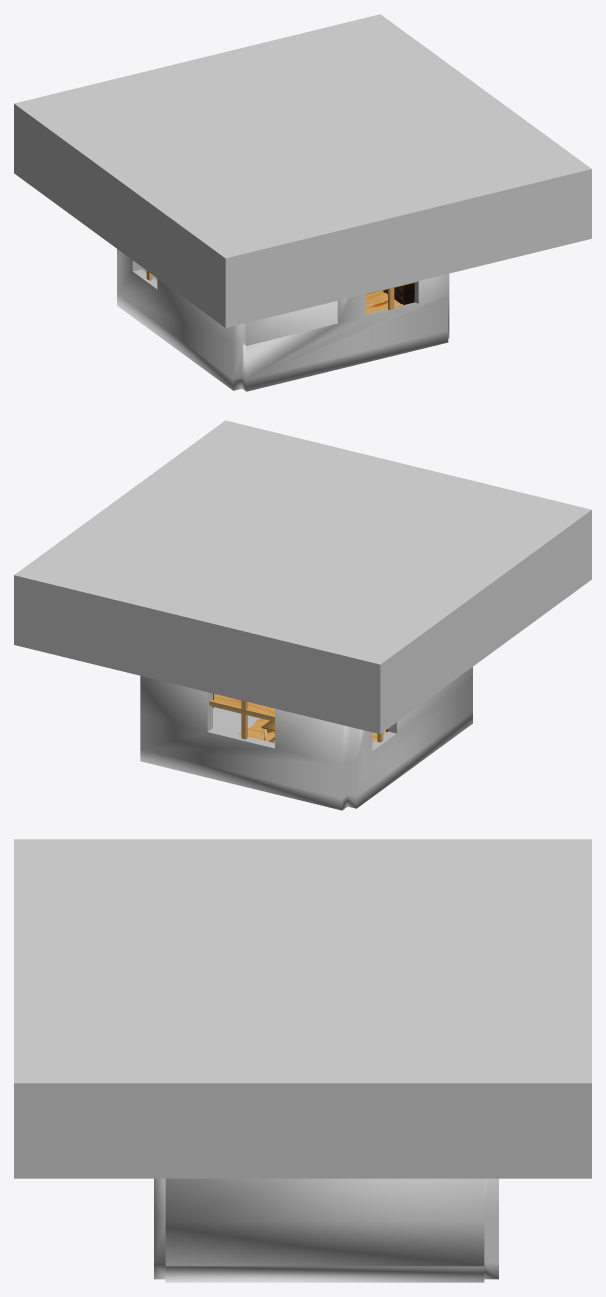
The model's file is 赤ずきん 家具の配置やサイズ感の共有(窓、ドアなし)1.fbx.
The picture shows the model from 3 angles, top to bottom: view 1: azimuth 30°, elevation 25°; view 2: azimuth 150°, elevation 25°; view 3: azimuth 270°, elevation 25°; orthographic projection. The views are drawn at different scales.
Visible parts, largest first — view 1: Cube.003, 部屋, Wall, Ground; view 2: Cube.003, 部屋, Ground, Wall, Cube.001, GroundRock; view 3: Cube.003, 部屋.
Part boxes in pixels (bbox=[...]): Cube.003: bbox=[14, 14, 591, 327]; 部屋: bbox=[117, 249, 449, 391]; Wall: bbox=[132, 260, 418, 316]; Ground: bbox=[365, 290, 402, 314]; Cube.003: bbox=[14, 420, 591, 734]; 部屋: bbox=[140, 667, 472, 810]; Ground: bbox=[213, 694, 386, 742]; Wall: bbox=[207, 692, 396, 751]; Cube.001: bbox=[209, 700, 383, 742]; GroundRock: bbox=[213, 707, 260, 733]; Cube.003: bbox=[14, 839, 591, 1178]; 部屋: bbox=[154, 1178, 498, 1282].
Size of the model in its own units: 799 by 393 by 799.
